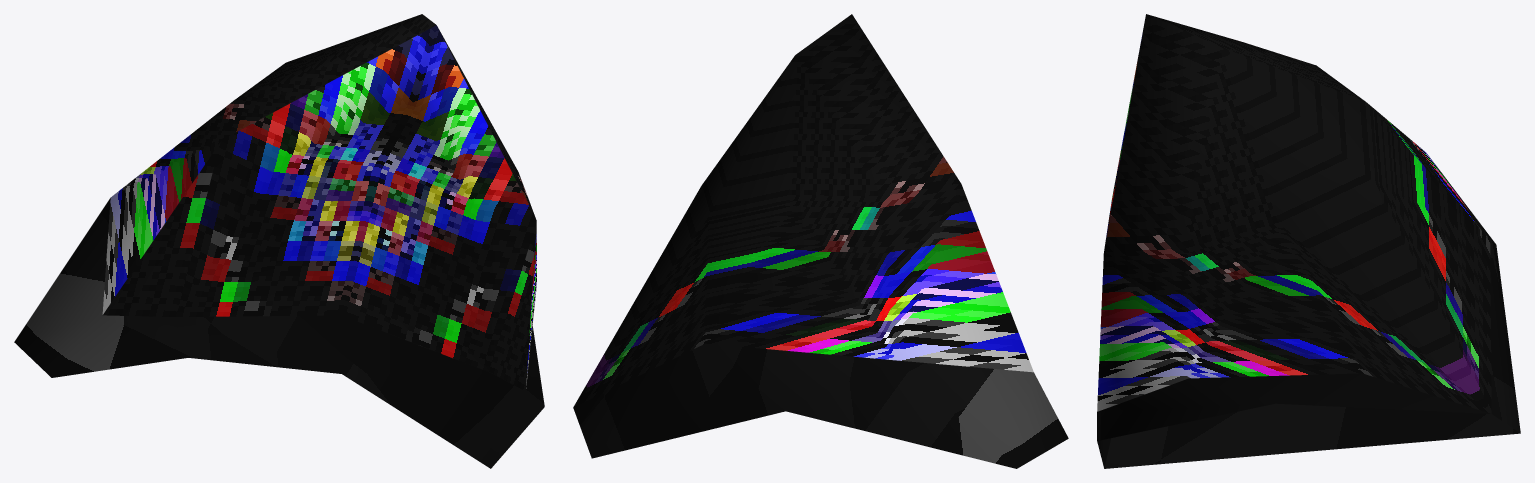
File: hat_cat_model.glb
3 views of the same model, side by side, from view 1: azimuth 30°, elevation 25°; view 2: azimuth 150°, elevation 25°; view 3: azimuth 270°, elevation 25° (orthographic). The views are drawn at different scales.
Parts seen in each view (by area): view 1: hat_cat_model; view 2: hat_cat_model; view 3: hat_cat_model.
Boxes of the visible parts, x1,y1,x2,y2 form: hat_cat_model: (14,14,544,468); hat_cat_model: (573,14,1068,468); hat_cat_model: (1097,14,1520,468).
Bounding box in the file's own units: 34.38 × 31.15 × 27.27.
1 material, 1 textured.
